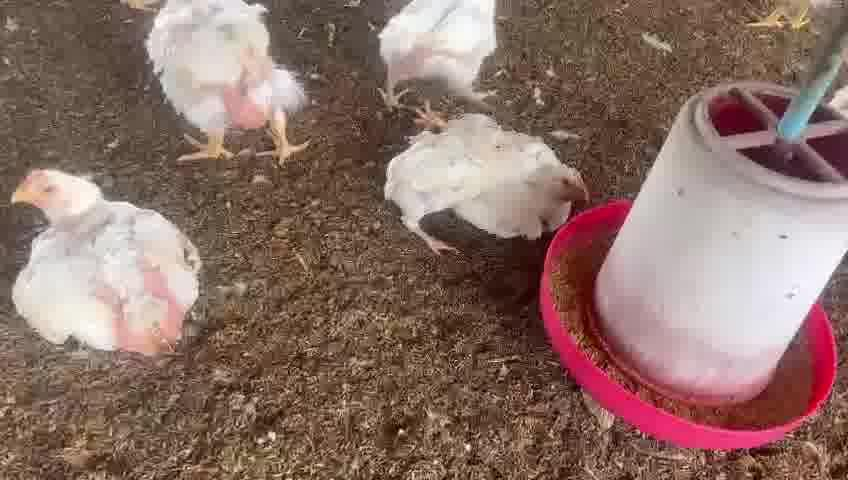AbNormal: (8, 171, 197, 358), (390, 101, 586, 254)
Normal: (137, 0, 309, 165), (378, 2, 501, 108)
